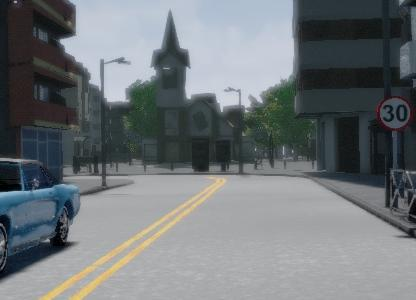Speed_30: (374, 92, 416, 137)
